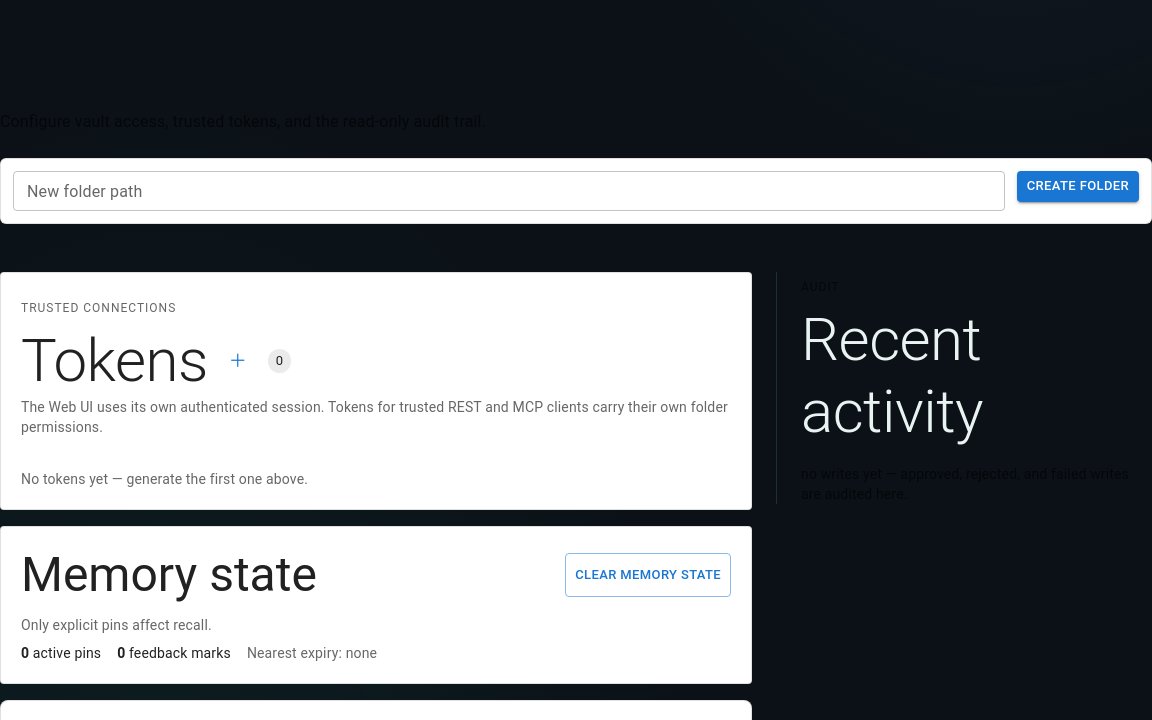
Scenario: Settings · API tokens › falls back to a suggested name and sends admin when the checkbox is set
The image size is (1152, 720).
(page scrolled)
Click the button named "generate token" at (238, 361), box x1=216 y1=339 x2=260 y2=383
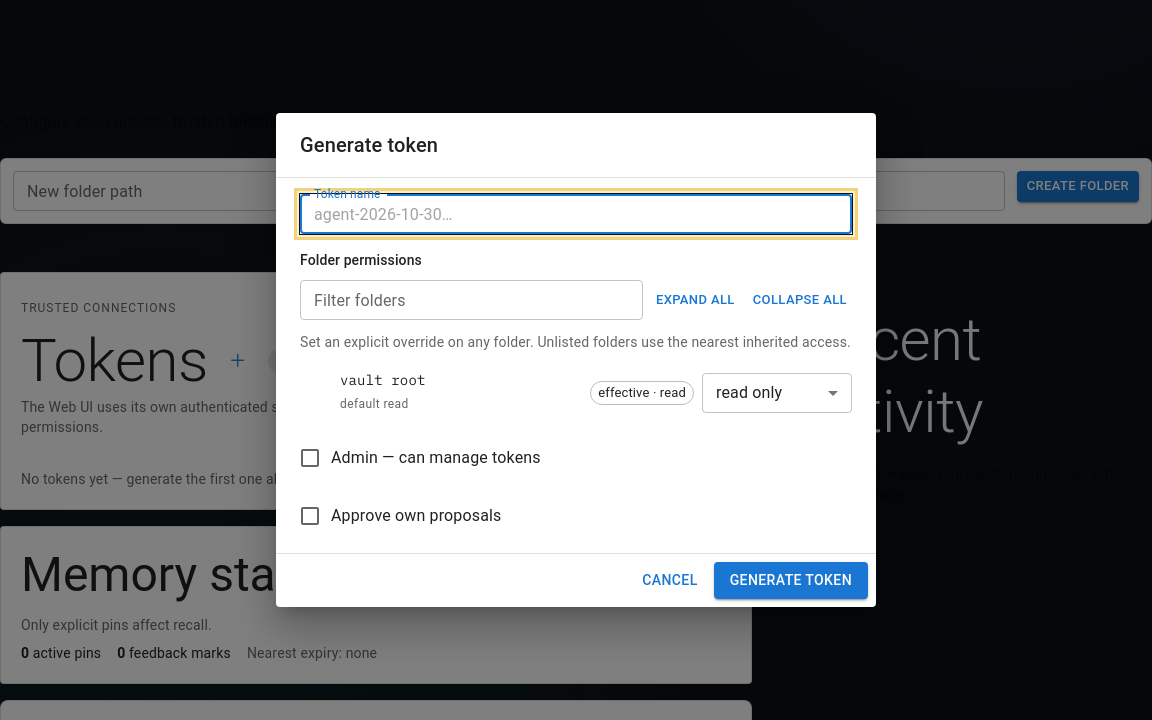
Click the checkbox labelled "Admin — can manage tokens" at (419, 458), box x1=298 y1=446 x2=541 y2=470
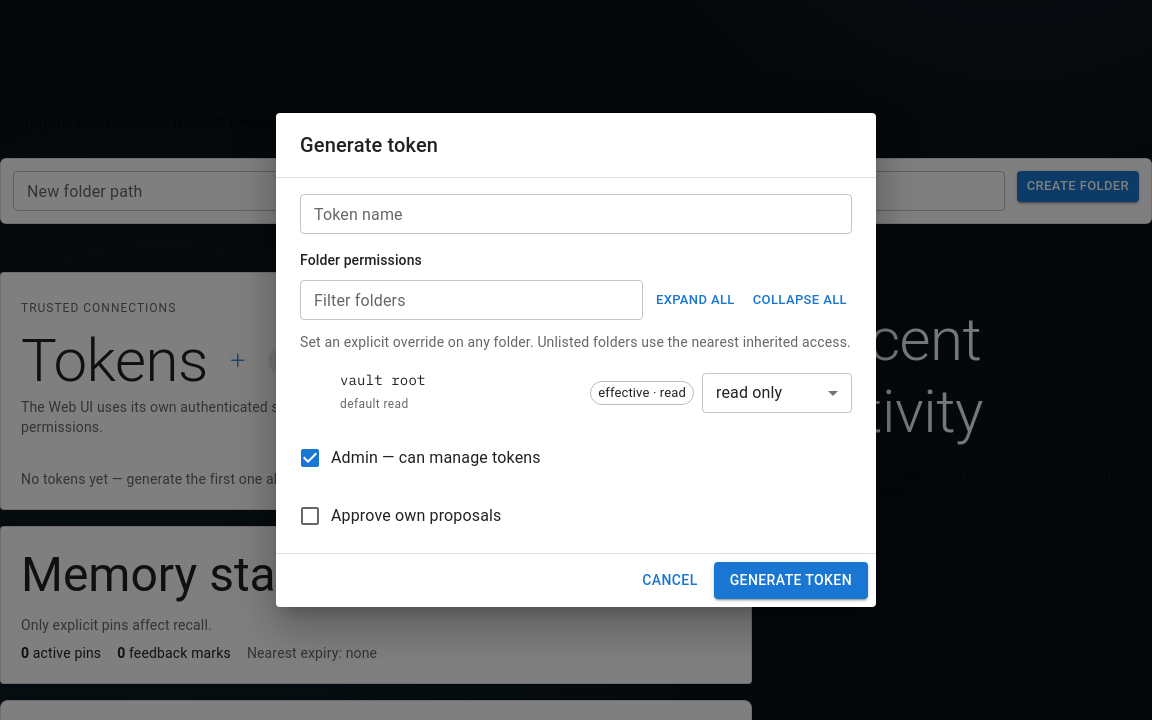
Click the button "Generate token" at (791, 580), box x1=714 y1=562 x2=868 y2=599
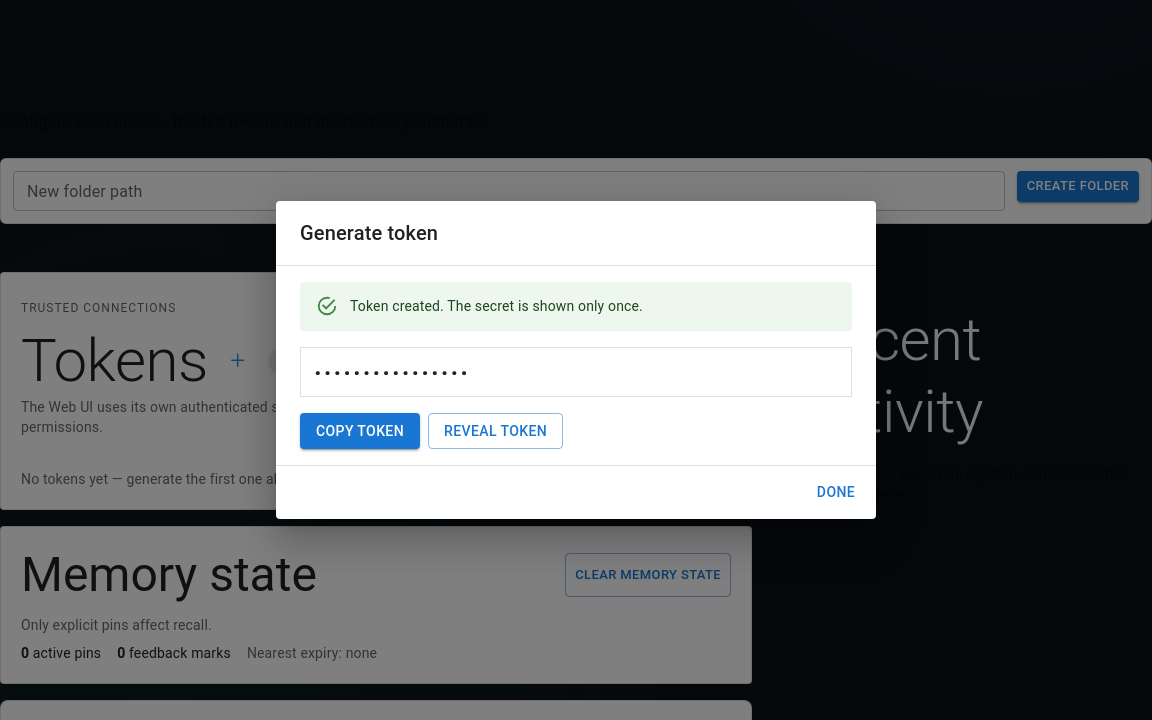
Expected: the text "Token created. The secret is shown only once." is shown, x1=350 y1=298 x2=643 y2=314
